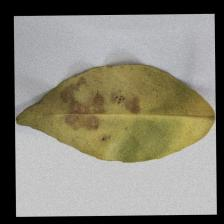canker: (58, 76, 150, 147)
